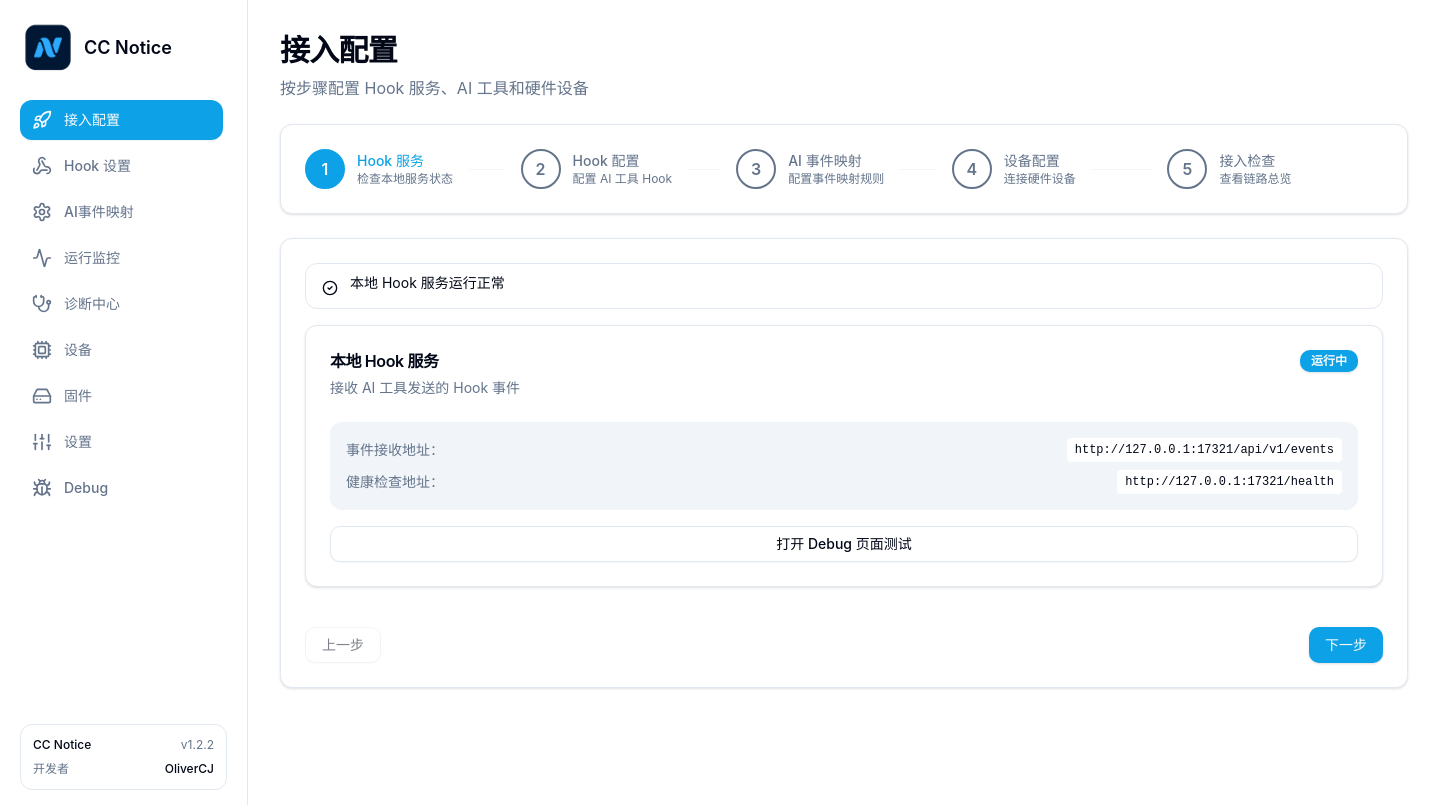
Test case: opens diagnostics check from setup workflow
The width and height of the screenshot is (1440, 805).
Click the button "5 接入检查 查看链路总览": (1229, 169) [1167,149,1291,189]
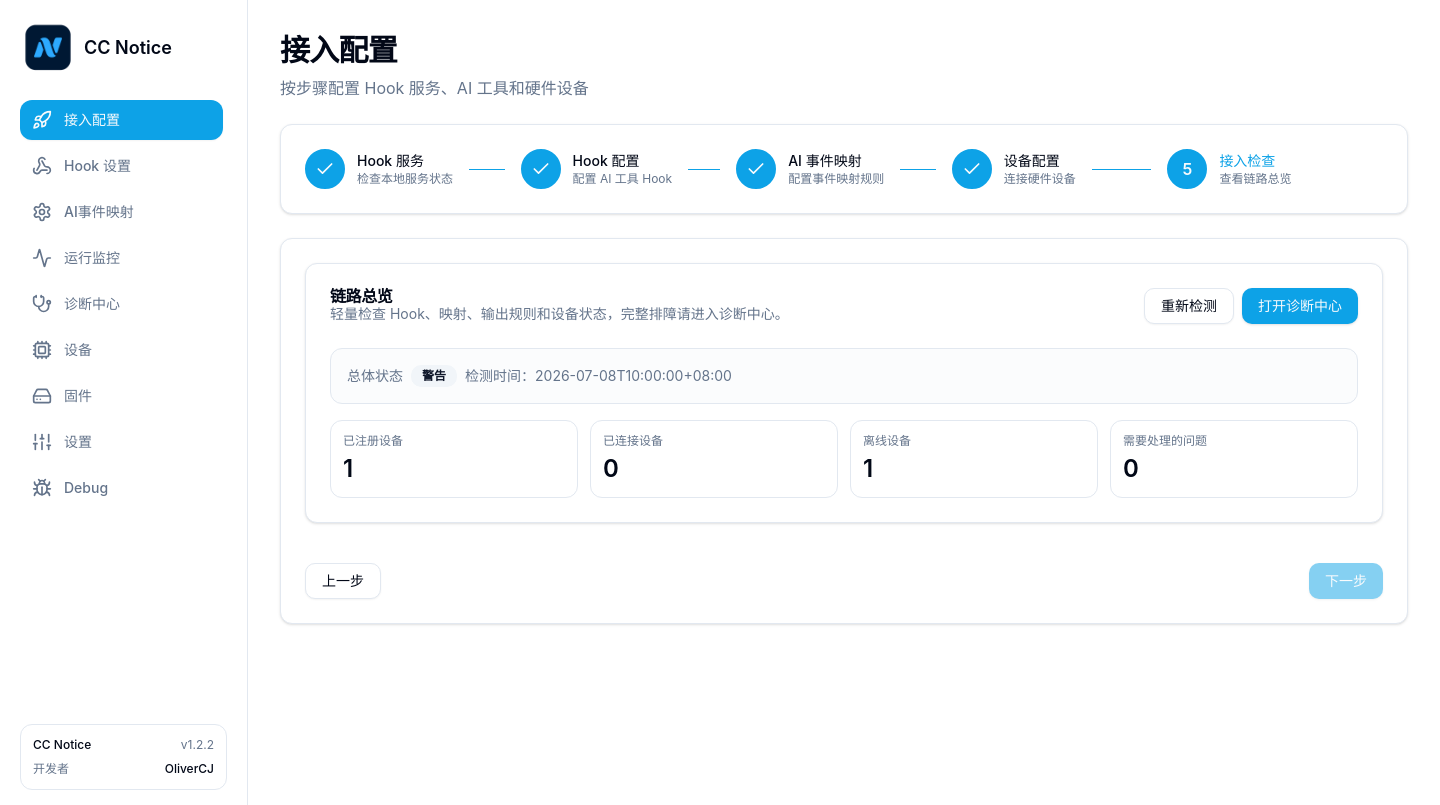
Now the text "链路总览" is shown, box [330,286,392,306]
Click the button "打开诊断中心": (1300, 306) [1242,288,1358,324]
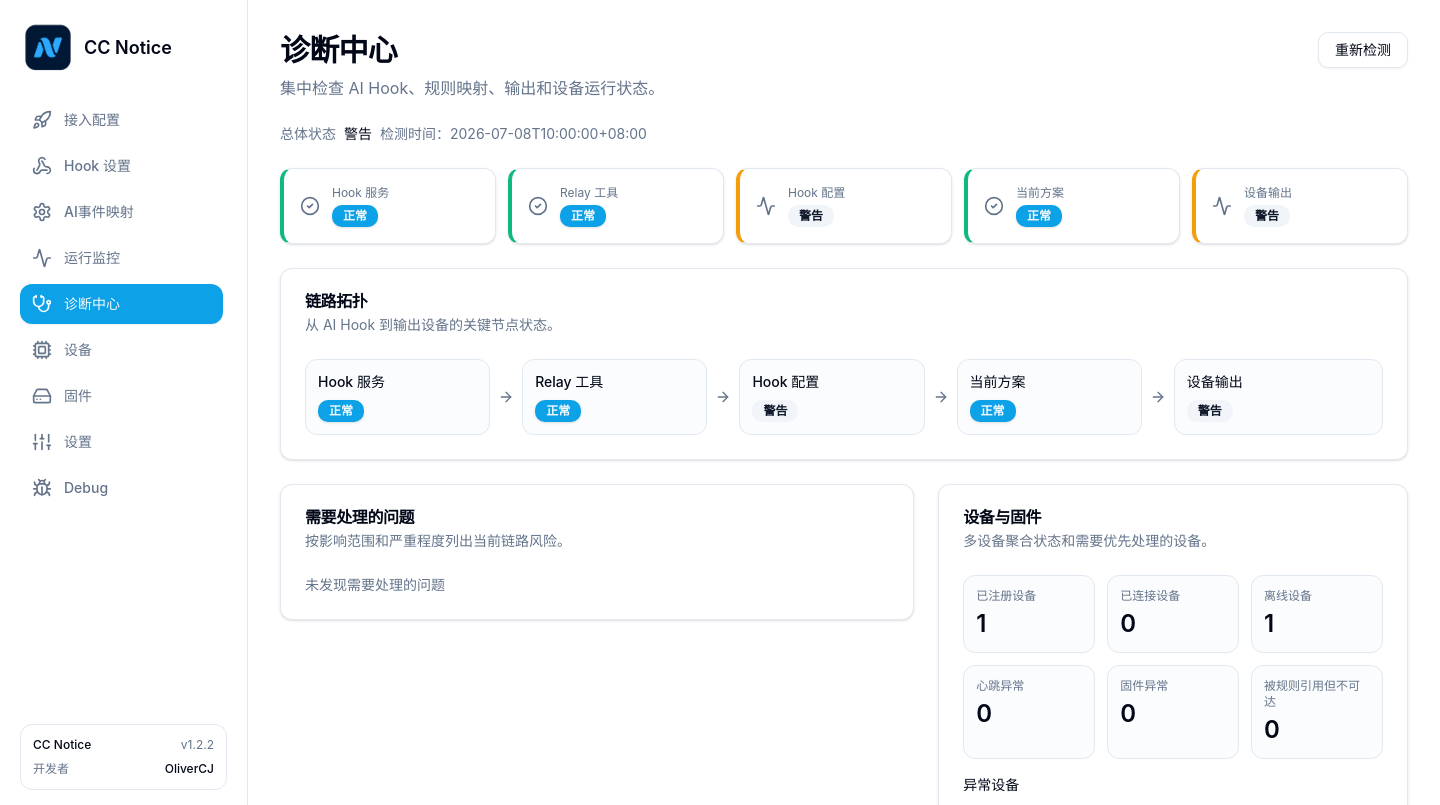
Now the heading "诊断中心" is shown, box [280,32,397,68]
